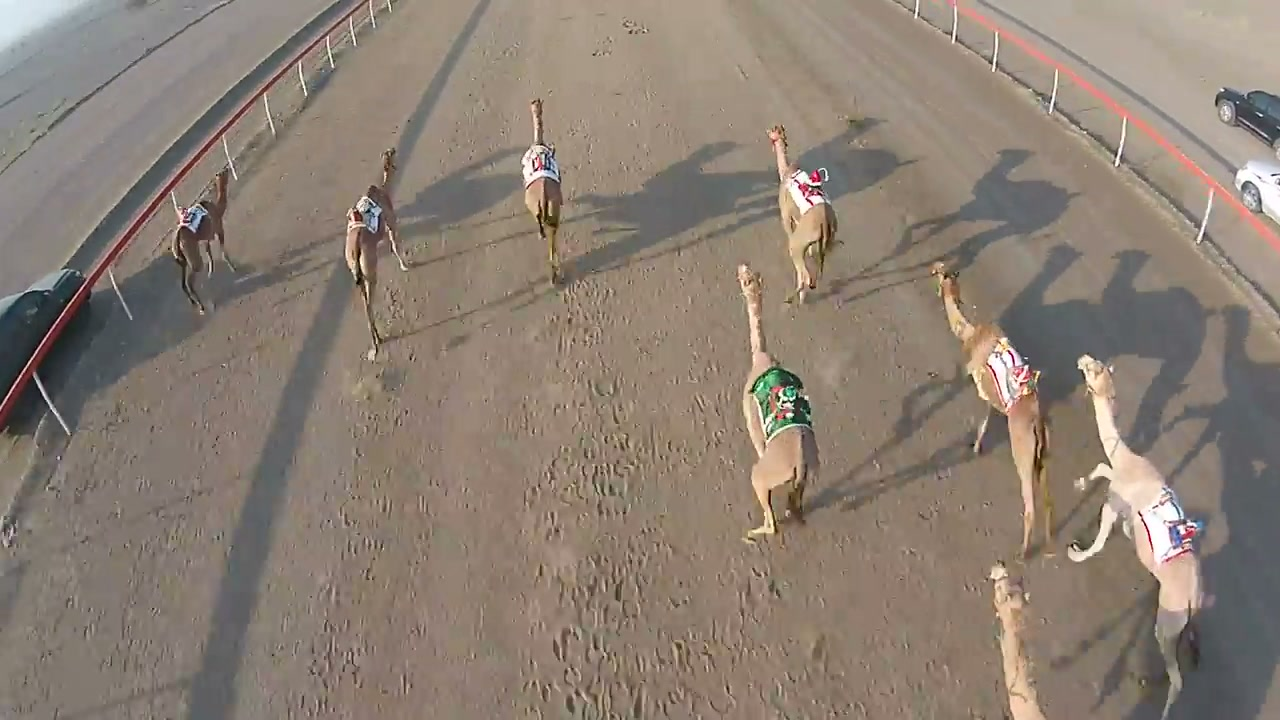animal_foot_print: (522, 278, 642, 717), (280, 349, 395, 708), (709, 540, 840, 697)
